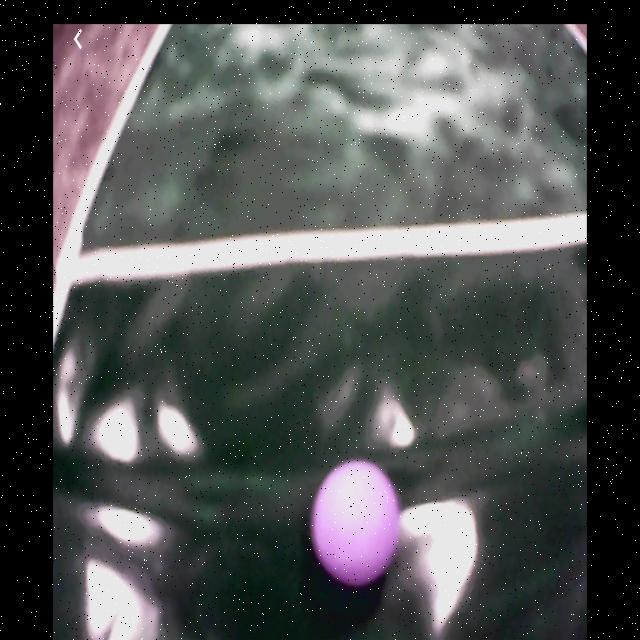ball: (312, 461, 403, 586)
